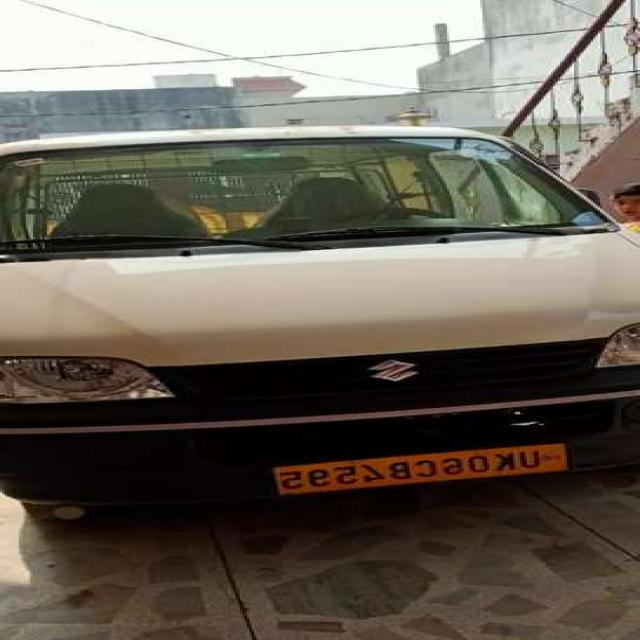license_plate: (257, 437, 576, 498)
